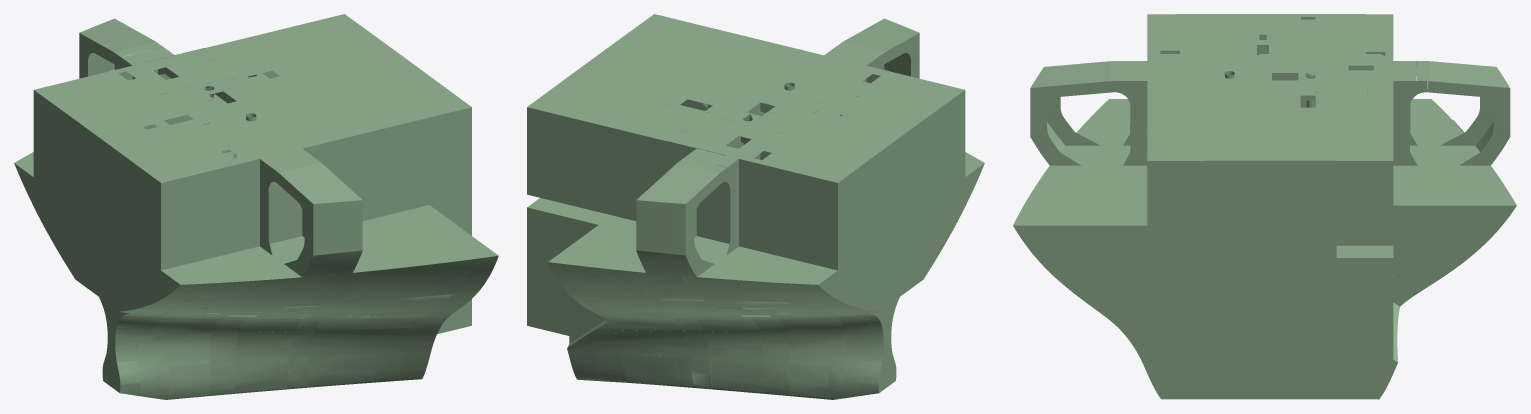
Rendered from ENGINE_ROOM___.glb.
3 views of the same model, side by side, from view 1: azimuth 30°, elevation 25°; view 2: azimuth 150°, elevation 25°; view 3: azimuth 270°, elevation 25° (orthographic). The views are drawn at different scales.
Parts seen in each view (by area): view 1: PL_LBHDxEPRS_022002-12.5_NVA_1993, PL_LBHDxEPRS_027002-12.5_NVA_1993, PL_OuterShellxEPRS_043001-17_NVA_1993, PL_UDxEPRS_034001-14.5_NVA_1993, PL_OuterShellxEPRS_037001-17_NVA_1993, PL_OuterShellxEPRS_048004-17_NVA_1993, PL_LBHDxEPRS_025002-12.5_NVA_1993, PL_2ndDeckxEPRS_013004-13_NVA_1993, PL_LBHDxEPRS_027004-12.5_NVA_1993, PL_LBHDxEPRS_019001-15.5_NVA_1993, PL_OuterShellxEPRS_053002-17_NVA_1993, PL_2ndDeckxEPRS_027002-13_NVA_1993 (+116 smaller); view 2: PL_LBHDxEPRP_016001-15.5_NVA_1993, PL_LBHDxEPRP_027002-12.5_NVA_1993, PL_OuterShellxEPRP_043001-17_NVA_1993, PL_LBHDxEPRP_022001-12.5_NVA_1993, PL_LBHDxEPRP_014001-13.5_NVA_1993, PL_OuterShellxEPRP_037001-17_NVA_1993, PL_UDxEPRS_034001-14.5_NVA_1993, PL_LBHDxEPRP_025002-12.5_NVA_1993, PL_LBHDxEPRP_027004-12.5_NVA_1993, PL_OuterShellxEPRP_048004-17_NVA_1993, PL_LBHDxEPRP_035002-18_NVA_1993, PL_UDxEPRS_030001-14.5_NVA_1993 (+123 smaller); view 3: PL_TransxFR50P_010001-12.5_NVA_1993, PL_TransxFR50S_010001-12.5_NVA_1993, PL_TransxFR50S_005002-17_NVA_1993, PL_TransxFR50P_005001-17_NVA_1993, PL_TransxFR45S_002002-18.5_NVA_1993, PL_TransxFR45P_002001-18.5_NVA_1993, PL_TransxFR50S_012002-12.5_NVA_1993, PL_TransxFR50P_012001-12.5_NVA_1993, PL_TransxFR45S_017001-14.5_NVA_1993, PL_TransxFR45S_016001-14.5_NVA_1993, PL_TransxFR50P_009002-12.5_NVA_1993, PL_TransxFR50S_009001-12.5_NVA_1993 (+96 smaller).
Boxes of the visible parts, <box> form: PL_LBHDxEPRS_022002-12.5_NVA_1993: <box>332,123,407,174</box>; PL_LBHDxEPRS_027002-12.5_NVA_1993: <box>205,159,272,206</box>; PL_OuterShellxEPRS_043001-17_NVA_1993: <box>305,354,377,386</box>; PL_UDxEPRS_034001-14.5_NVA_1993: <box>381,87,470,121</box>; PL_OuterShellxEPRS_037001-17_NVA_1993: <box>234,358,289,392</box>; PL_OuterShellxEPRS_048004-17_NVA_1993: <box>310,328,412,346</box>; PL_LBHDxEPRS_025002-12.5_NVA_1993: <box>205,217,272,259</box>; PL_2ndDeckxEPRS_013004-13_NVA_1993: <box>366,235,461,268</box>; PL_LBHDxEPRS_027004-12.5_NVA_1993: <box>161,172,205,217</box>; PL_LBHDxEPRS_019001-15.5_NVA_1993: <box>429,107,471,151</box>; PL_OuterShellxEPRS_053002-17_NVA_1993: <box>378,259,474,285</box>; PL_2ndDeckxEPRS_027002-13_NVA_1993: <box>362,220,440,253</box>; PL_LBHDxEPRP_016001-15.5_NVA_1993: <box>527,107,590,157</box>; PL_LBHDxEPRP_027002-12.5_NVA_1993: <box>726,159,793,206</box>; PL_OuterShellxEPRP_043001-17_NVA_1993: <box>621,354,693,386</box>; PL_LBHDxEPRP_022001-12.5_NVA_1993: <box>614,128,666,174</box>; PL_LBHDxEPRP_014001-13.5_NVA_1993: <box>527,168,590,209</box>; PL_OuterShellxEPRP_037001-17_NVA_1993: <box>709,358,764,392</box>; PL_UDxEPRS_034001-14.5_NVA_1993: <box>627,15,716,49</box>; PL_LBHDxEPRP_025002-12.5_NVA_1993: <box>726,217,793,259</box>; PL_LBHDxEPRP_027004-12.5_NVA_1993: <box>793,172,837,217</box>; PL_OuterShellxEPRP_048004-17_NVA_1993: <box>589,328,688,346</box>; PL_LBHDxEPRP_035002-18_NVA_1993: <box>527,289,590,326</box>; PL_UDxEPRS_030001-14.5_NVA_1993: <box>603,37,686,66</box>; PL_TransxFR50P_010001-12.5_NVA_1993: <box>1270,212,1338,245</box>; PL_TransxFR50S_010001-12.5_NVA_1993: <box>1202,212,1270,245</box>; PL_TransxFR50S_005002-17_NVA_1993: <box>1199,343,1270,372</box>; PL_TransxFR50P_005001-17_NVA_1993: <box>1270,343,1340,372</box>; PL_TransxFR45S_002002-18.5_NVA_1993: <box>1199,372,1270,399</box>; PL_TransxFR45P_002001-18.5_NVA_1993: <box>1270,372,1340,399</box>; PL_TransxFR50S_012002-12.5_NVA_1993: <box>1199,160,1270,186</box>; PL_TransxFR50P_012001-12.5_NVA_1993: <box>1270,160,1340,186</box>; PL_TransxFR45S_017001-14.5_NVA_1993: <box>1095,225,1147,260</box>; PL_TransxFR45S_016001-14.5_NVA_1993: <box>1013,225,1076,260</box>; PL_TransxFR50P_009002-12.5_NVA_1993: <box>1340,212,1393,245</box>; PL_TransxFR50S_009001-12.5_NVA_1993: <box>1147,212,1199,245</box>.
Bounding box in the file's own units: 33.02 × 27.55 × 47.89.
